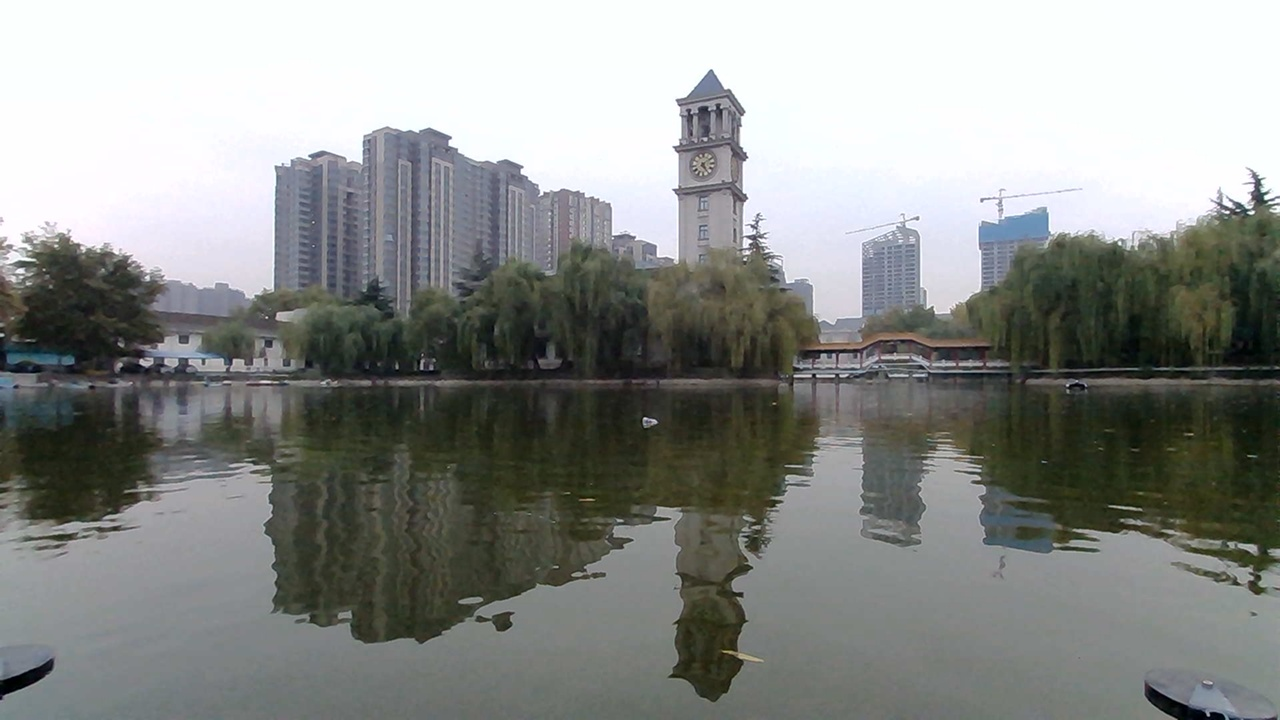bottle: (631, 405, 683, 443)
